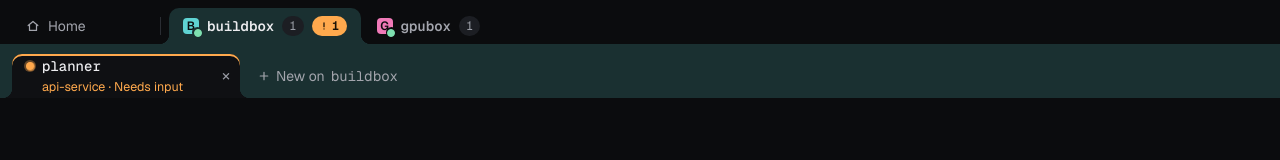
it: TabStrip › clicking_another_workbox_swaps_the_session_row
Expected: the button "tester" is not shown
Click the button with aria-label "gpubox," at (432, 26), box top-left (362, 8), bottom-right (502, 44)
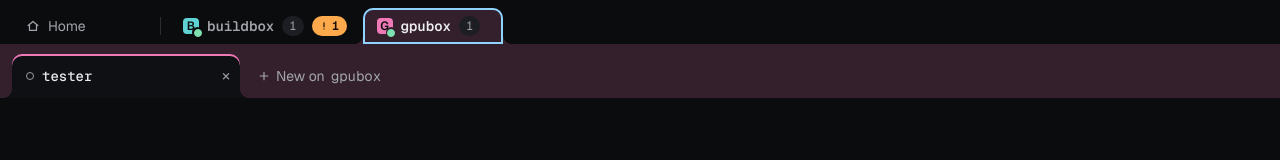
Now the button "tester" is shown, box top-left (12, 54), bottom-right (218, 98)
Now the button "planner" is gone
